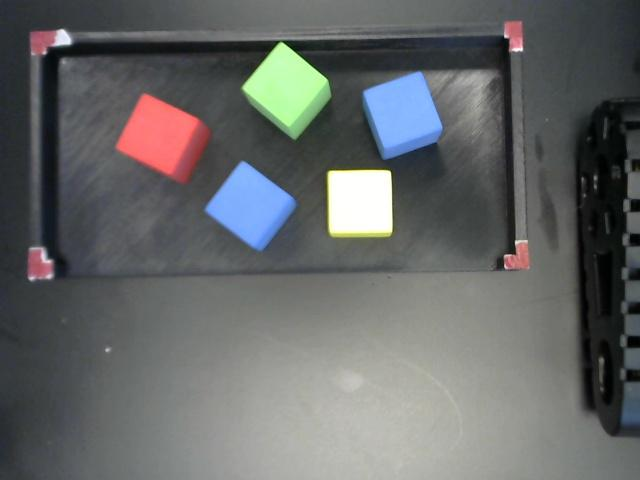cube: (240, 42, 333, 140), (115, 94, 209, 183), (205, 161, 296, 250), (361, 68, 444, 161), (329, 169, 393, 239)
